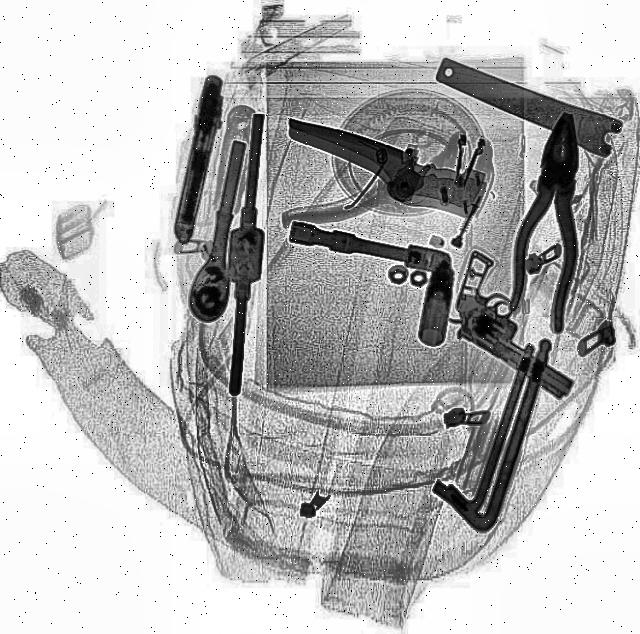Gun: (430, 252, 614, 402), (172, 76, 230, 246)
Pliers: (506, 111, 600, 335)
